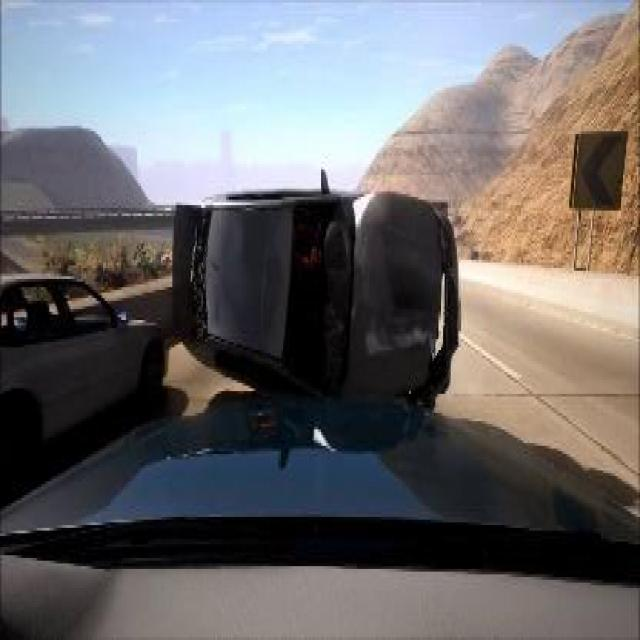accident: (163, 170, 466, 416)
